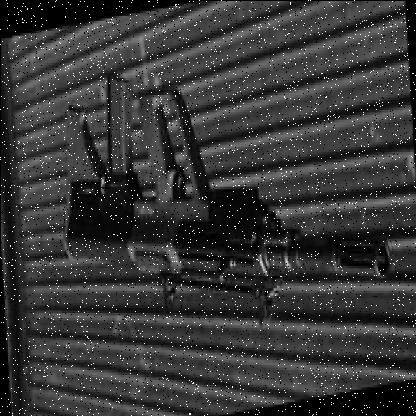rifle: (54, 13, 402, 352)
